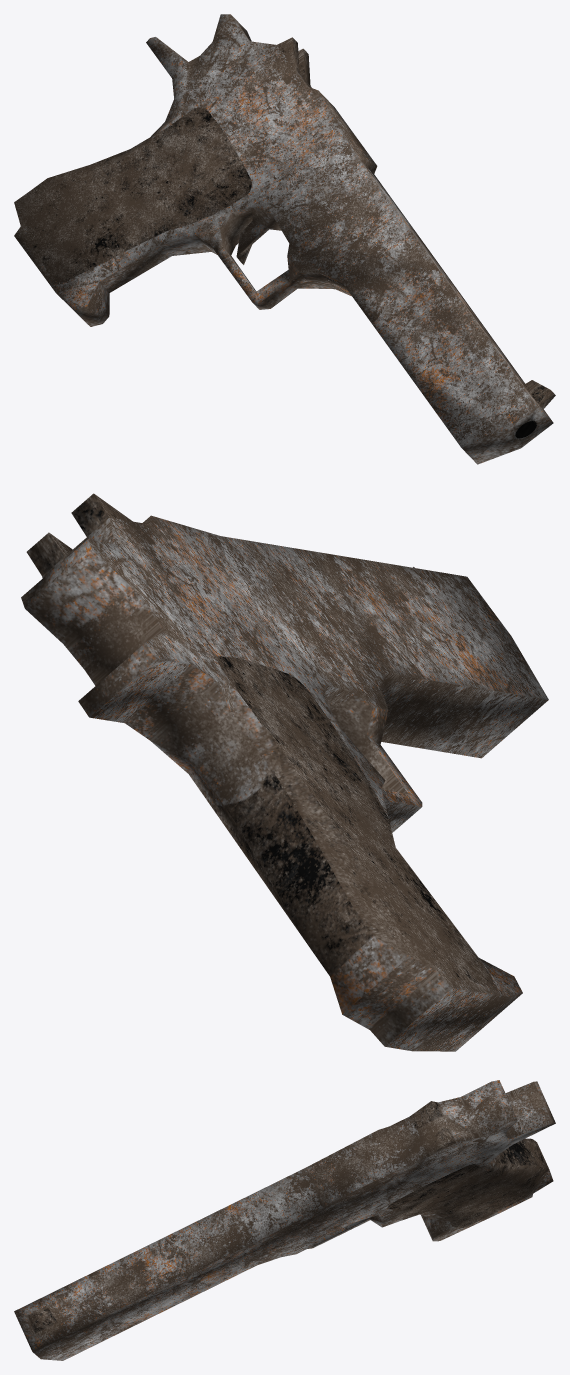
Rendered from Anim_disparar_pistola_objetos.0028.obj.
The picture shows the model from 3 angles, top to bottom: view 1: azimuth 30°, elevation 25°; view 2: azimuth 150°, elevation 25°; view 3: azimuth 270°, elevation 25°; orthographic projection. The views are drawn at different scales.
Parts seen in each view (by area): view 1: Pistola1; view 2: Pistola1; view 3: Pistola1.
Boxes of the visible parts, x1=… form: Pistola1: x1=14, y1=14, x2=555, y2=464; Pistola1: x1=21, y1=493, x2=548, y2=1051; Pistola1: x1=14, y1=1080, x2=555, y2=1360.
Size of the model in its own units: 0.9427 by 0.9038 by 1.64.
